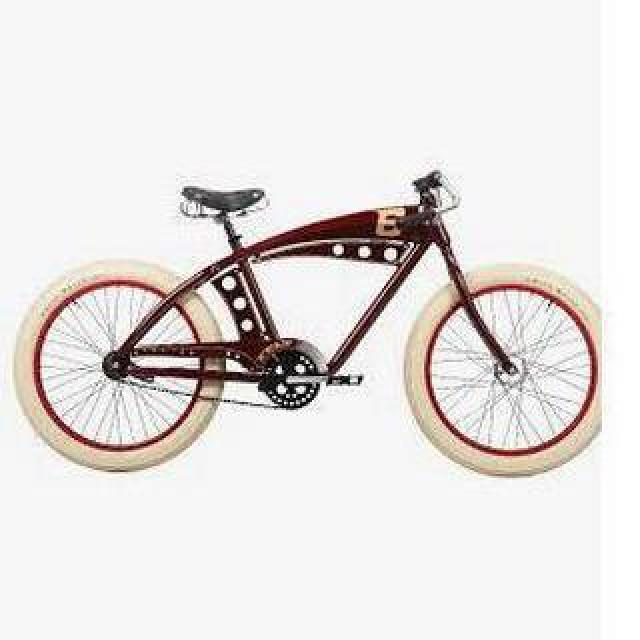Person: (10, 167, 604, 485)
